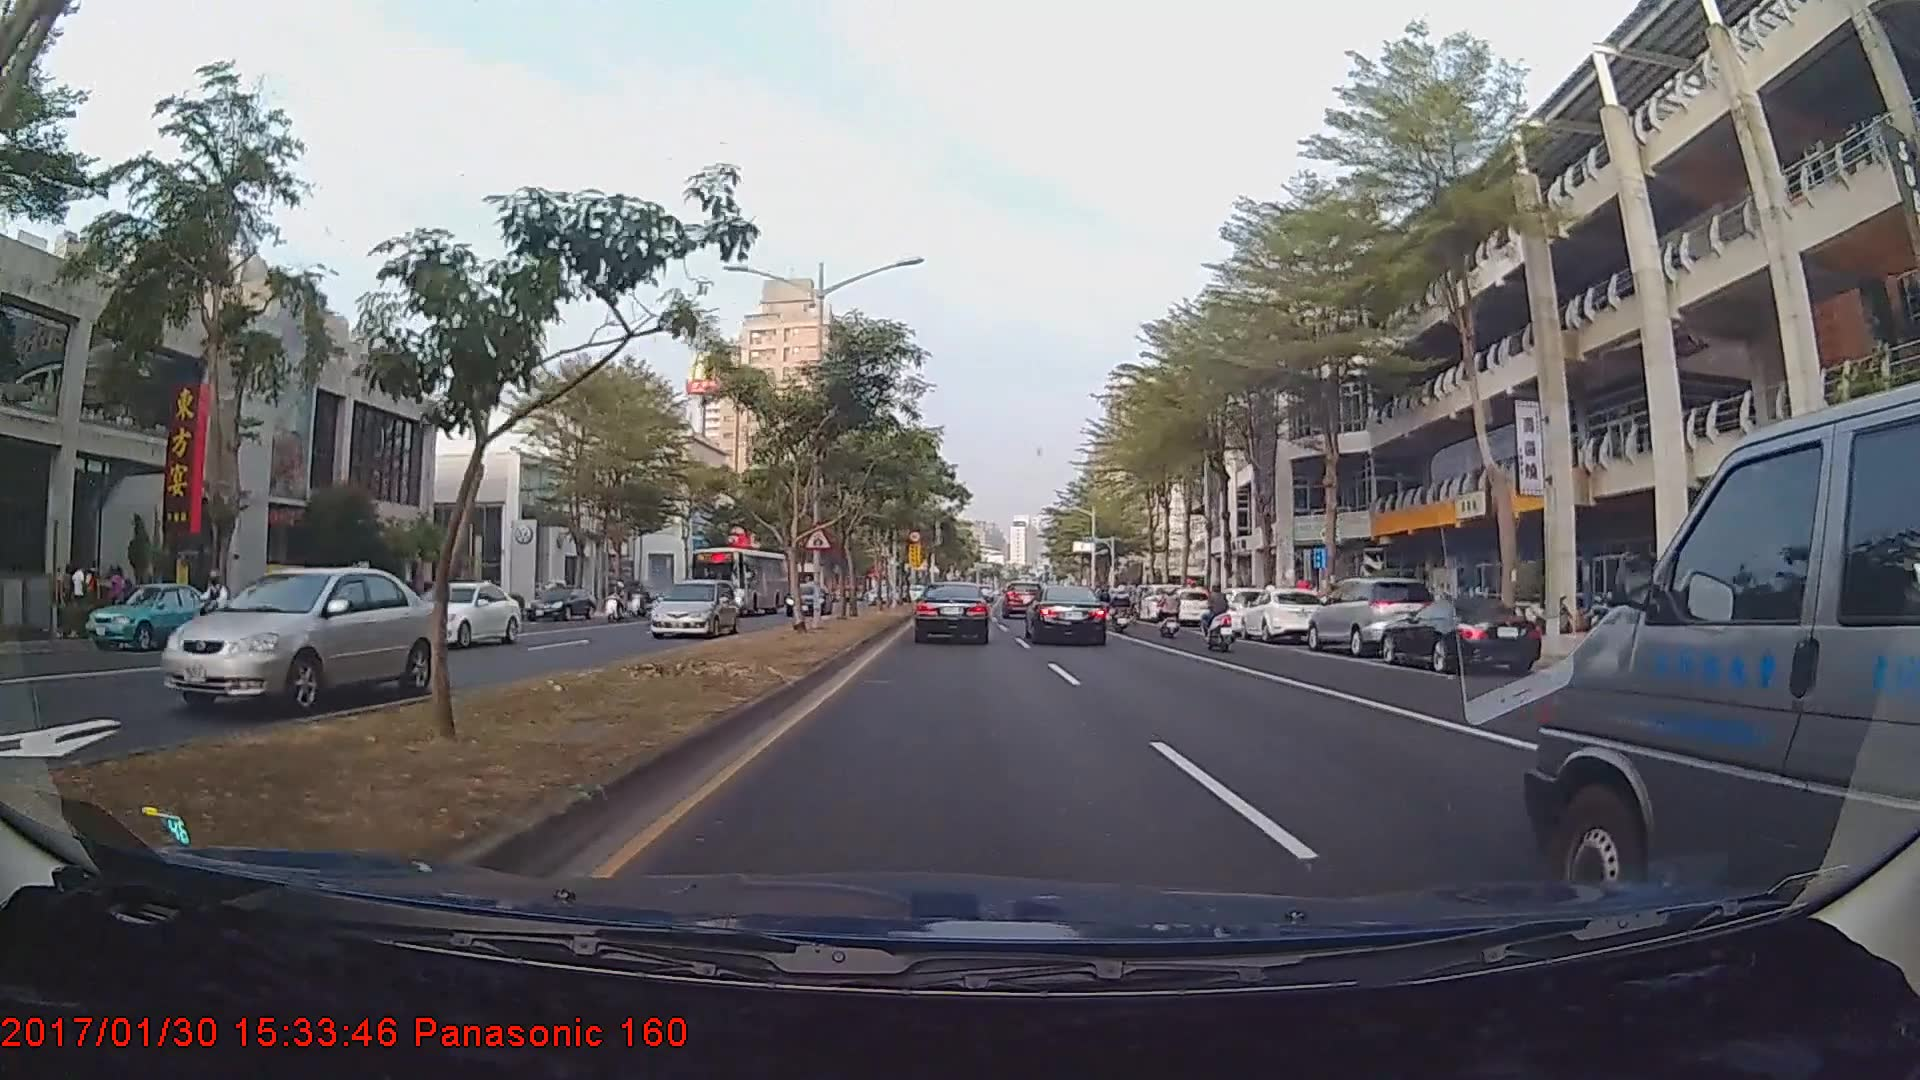rider: (180, 570, 245, 651), (1192, 582, 1243, 656), (1149, 584, 1192, 646), (1109, 585, 1134, 638)
vehicle: (1545, 398, 1916, 898), (159, 567, 435, 714), (1379, 596, 1547, 675), (1306, 572, 1440, 657), (388, 580, 520, 650), (83, 581, 219, 649), (692, 547, 786, 620), (647, 579, 739, 641), (1237, 586, 1330, 642), (913, 581, 991, 645), (1027, 583, 1107, 646), (1203, 586, 1274, 635), (1159, 587, 1211, 625), (1004, 576, 1046, 614), (782, 583, 829, 613)
